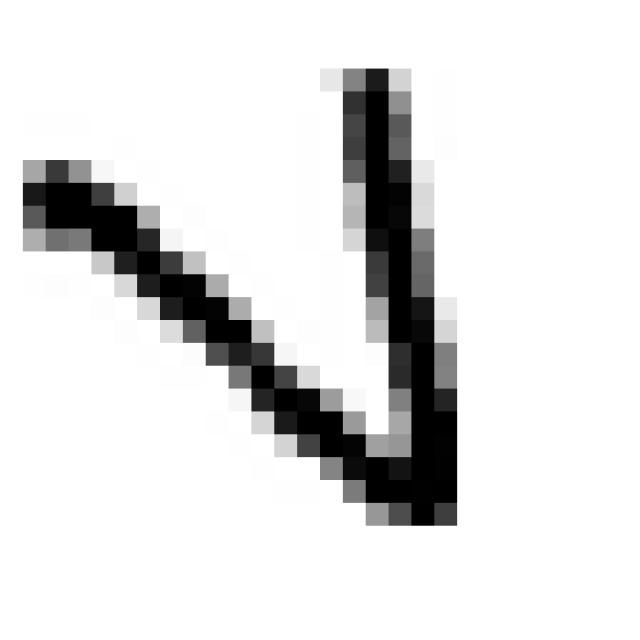7 -seven-: (9, 50, 487, 546)
